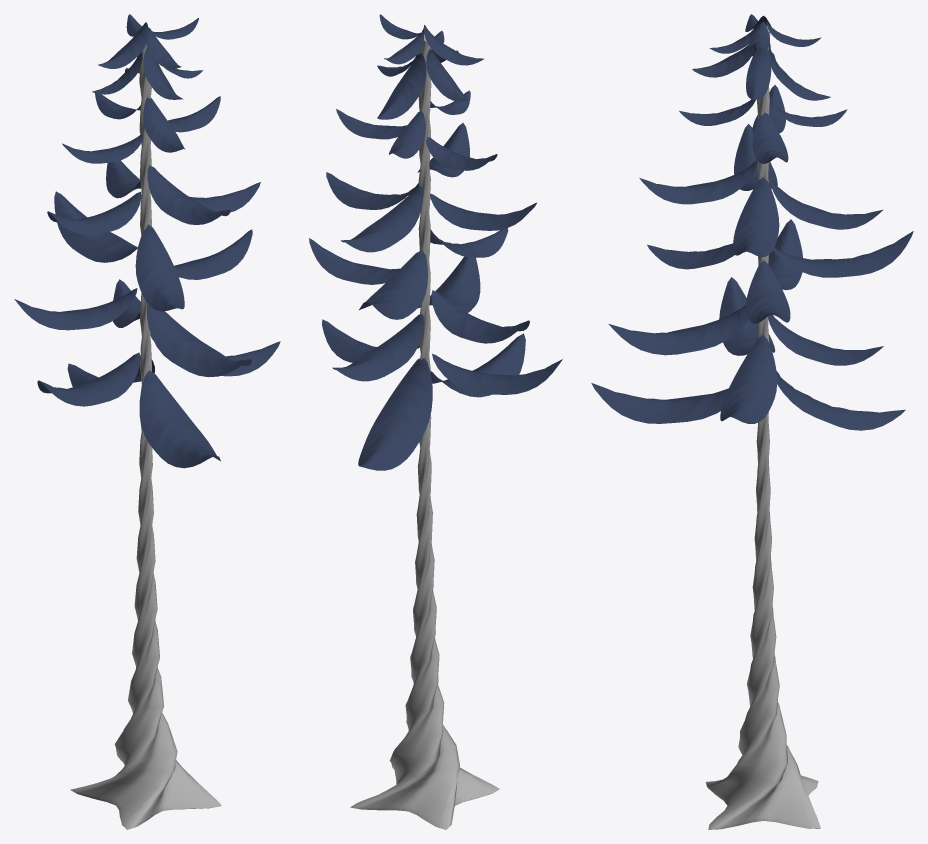
The model's file is Tree01.fbx.
3 renders of one model, left to right at view 1: azimuth 30°, elevation 25°; view 2: azimuth 150°, elevation 25°; view 3: azimuth 270°, elevation 25°, orthographic. The views are drawn at different scales.
Parts seen in each view (by area): view 1: Tree01_GEO; view 2: Tree01_GEO; view 3: Tree01_GEO.
Part boxes in pixels (x1=…): Tree01_GEO: x1=14, y1=14, x2=280, y2=829; Tree01_GEO: x1=309, y1=14, x2=562, y2=829; Tree01_GEO: x1=591, y1=14, x2=913, y2=829.
Size of the model in its own units: 344 by 1057 by 391.
